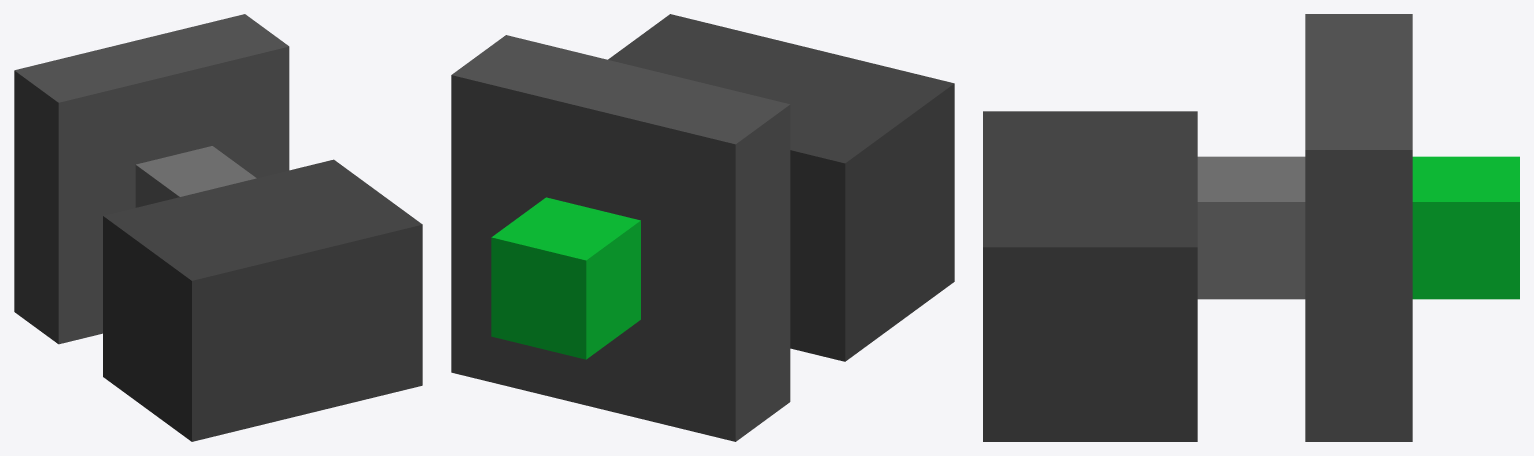
The model's file is alien_tool3.fbx.
3 views of the same model, side by side, from view 1: azimuth 30°, elevation 25°; view 2: azimuth 150°, elevation 25°; view 3: azimuth 270°, elevation 25° (orthographic). The views are drawn at different scales.
Visible parts, largest first — view 1: alien_tool3; view 2: alien_tool3; view 3: alien_tool3.
Boxes of the visible parts, bbox=[...] form: alien_tool3: bbox=[14, 14, 422, 441]; alien_tool3: bbox=[451, 14, 954, 441]; alien_tool3: bbox=[983, 14, 1519, 441].
Size of the model in its own units: 0.3 by 0.5 by 0.3.
1 material, 1 textured.
